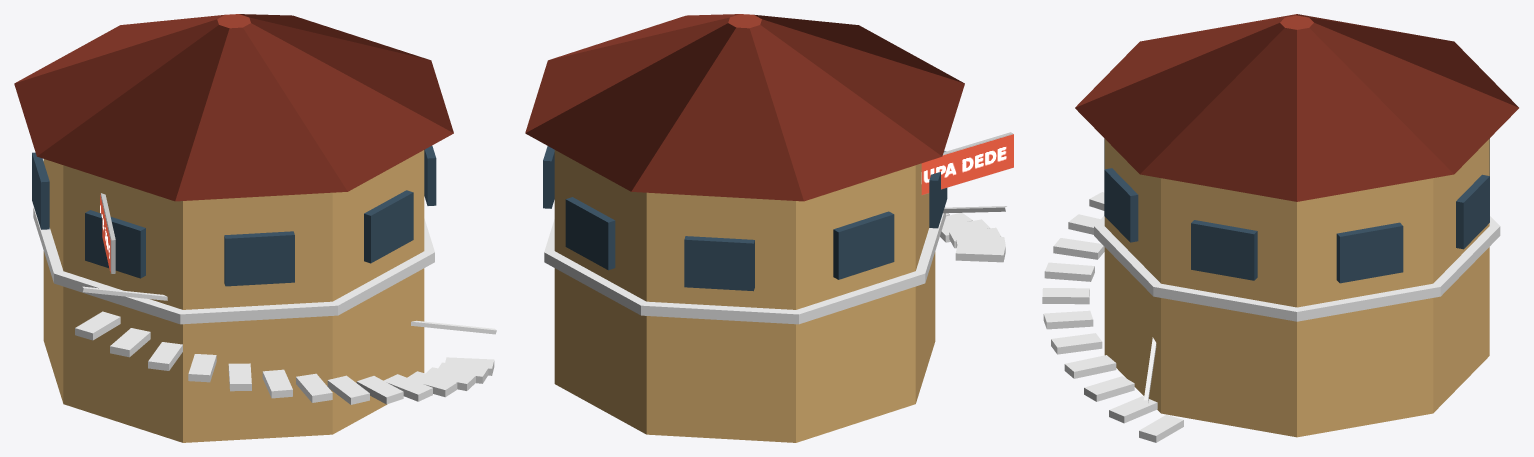
File: chupadede.glb
3 renders of one model, left to right at view 1: azimuth 30°, elevation 25°; view 2: azimuth 150°, elevation 25°; view 3: azimuth 270°, elevation 25°, orthographic. The views are drawn at different scales.
Visible parts, largest first — view 1: chupadede_lod0; view 2: chupadede_lod0; view 3: chupadede_lod0.
Boxes of the visible parts, x1,y1,x2,y2 form: chupadede_lod0: [14, 14, 496, 442]; chupadede_lod0: [525, 14, 1013, 442]; chupadede_lod0: [1042, 14, 1518, 442].
Size of what is drawn, in the model's own units: 10.71 by 8.6 by 11.15.
6 materials, 1 textured.
